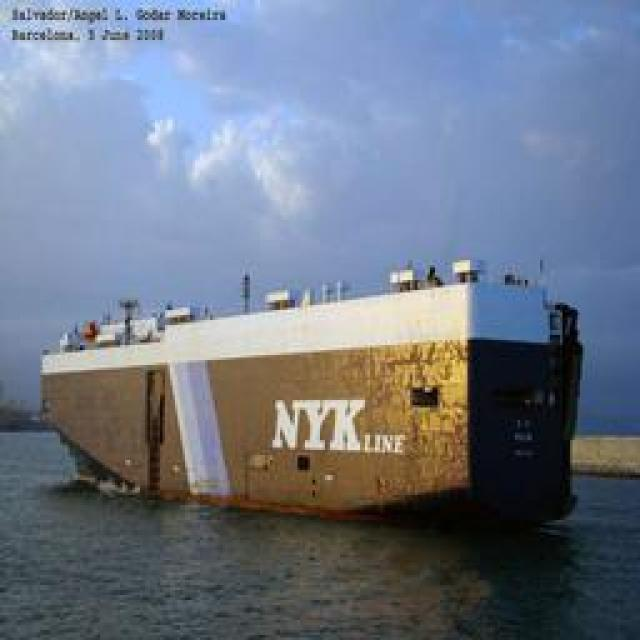CIV_Ship: (31, 248, 584, 520)
